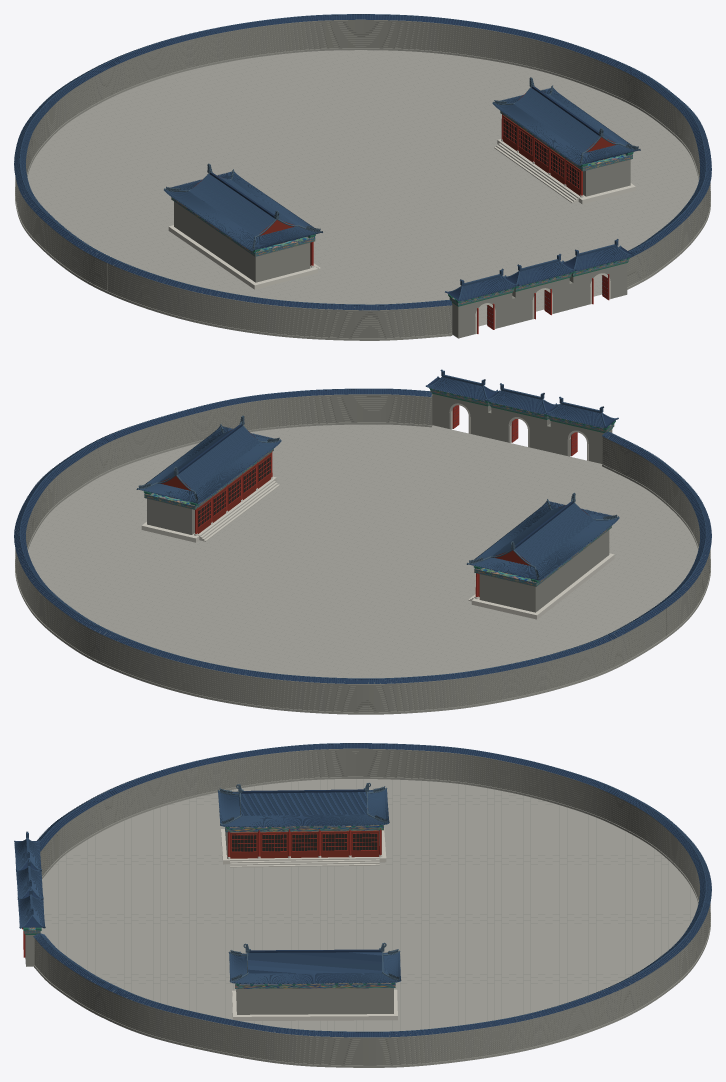
The model's file is detail.glb.
The picture shows the model from 3 angles, top to bottom: view 1: azimuth 30°, elevation 25°; view 2: azimuth 150°, elevation 25°; view 3: azimuth 270°, elevation 25°; orthographic projection.
Visible parts, largest first — view 1: Echo court paving.001, Echo court brick.001, Echo court tile.001, Echo court roof.001, Echo court mortar, Echo court stoneDark.001, Echo court stone.001, Echo court pavingJoint, Echo court red.001, Echo court frieze.001, Echo court redDark.001, Echo court shade.001 (+2 smaller); view 2: Echo court paving.001, Echo court brick.001, Echo court tile.001, Echo court roof.001, Echo court mortar, Echo court stoneDark.001, Echo court stone.001, Echo court pavingJoint, Echo court frieze.001, Echo court red.001, Echo court redDark.001, Echo court shade.001 (+2 smaller); view 3: Echo court paving.001, Echo court brick.001, Echo court tile.001, Echo court roof.001, Echo court pavingJoint, Echo court mortar, Echo court stoneDark.001, Echo court stone.001, Echo court shade.001, Echo court red.001, Echo court frieze.001, Echo court redDark.001 (+1 smaller).
Boxes of the visible parts, x1,y1,x2,y2 form: Echo court paving.001: (27,50,698,326); Echo court brick.001: (15,19,710,338); Echo court tile.001: (14,14,711,309); Echo court roof.001: (14,15,711,310); Echo court mortar: (15,22,710,336); Echo court stoneDark.001: (15,48,710,340); Echo court stone.001: (168,139,635,334); Echo court pavingJoint: (34,50,696,325); Echo court red.001: (311,112,609,333); Echo court frieze.001: (171,111,632,305); Echo court redDark.001: (194,93,615,265); Echo court shade.001: (503,118,579,188); Echo court paving.001: (28,424,698,678); Echo court brick.001: (15,393,710,712); Echo court tile.001: (14,369,711,683); Echo court roof.001: (14,377,711,683); Echo court mortar: (15,396,710,710); Echo court stoneDark.001: (15,422,710,714); Echo court stone.001: (141,403,614,619); Echo court pavingJoint: (32,425,694,677); Echo court frieze.001: (144,389,614,586); Echo court red.001: (195,405,577,596); Echo court redDark.001: (161,429,587,596); Echo court shade.001: (198,456,270,526); Echo court paving.001: (40,779,698,1031); Echo court brick.001: (25,748,710,1065); Echo court tile.001: (14,743,711,1037); Echo court roof.001: (15,744,711,1037); Echo court pavingJoint: (44,779,697,1031); Echo court mortar: (35,751,710,1063); Echo court stoneDark.001: (34,776,710,1067); Echo court stone.001: (221,828,397,1020); Echo court shade.001: (232,833,377,851); Echo court red.001: (22,828,381,957); Echo court frieze.001: (24,825,395,988); Echo court redDark.001: (230,808,378,858).
Size of the model in its own units: 0.6893 by 0.0708 by 0.6921.
14 materials, 1 textured.
